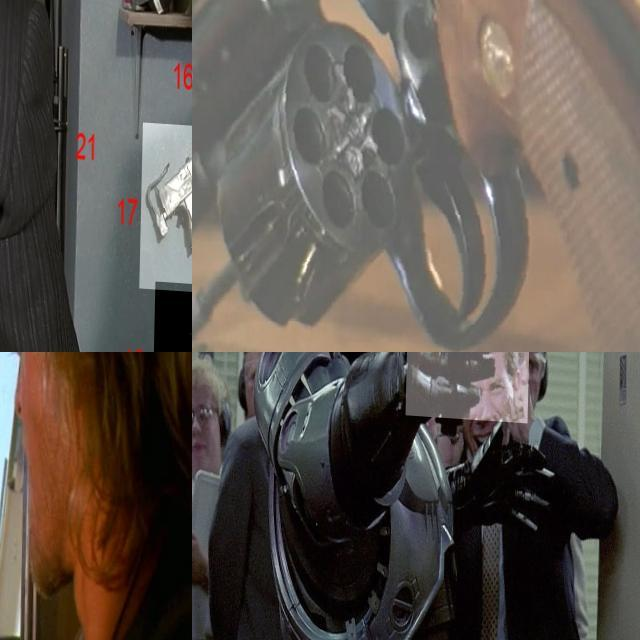gun-knife-thesis - v11 Yolov5 augmented: (192, 0, 640, 352), (0, 352, 87, 640), (407, 352, 533, 475), (141, 119, 192, 290)
